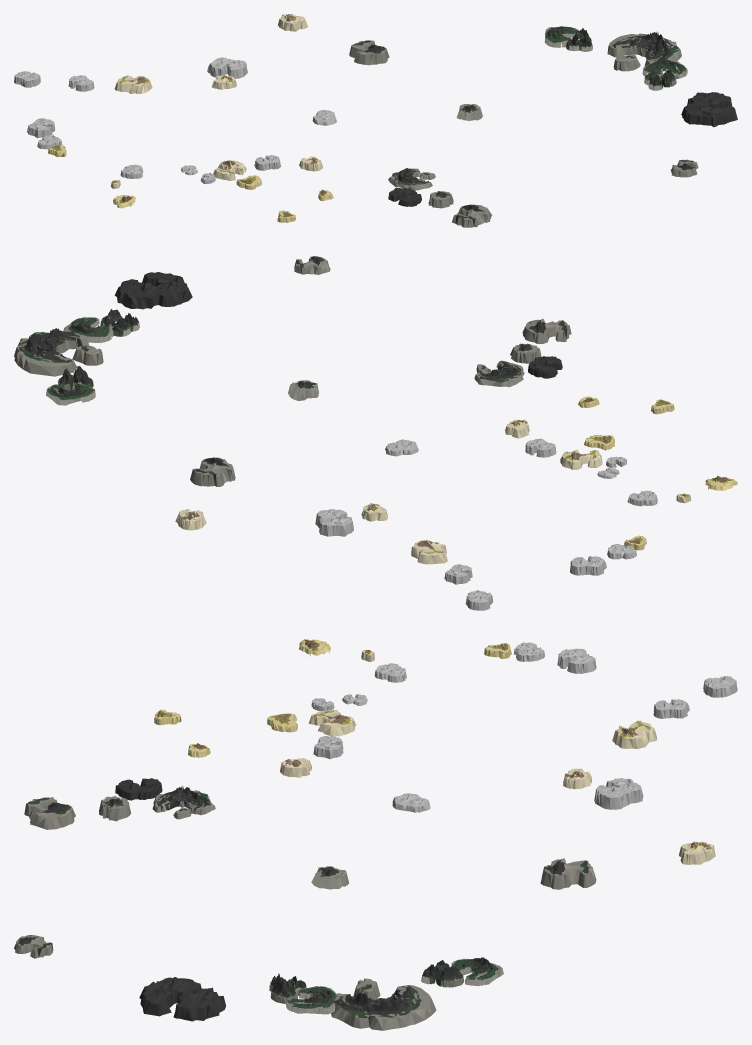
Rendered from samllisland 1.fbx.
The picture shows the model from 3 angles, top to bottom: view 1: azimuth 30°, elevation 25°; view 2: azimuth 150°, elevation 25°; view 3: azimuth 270°, elevation 25°; orthographic projection. The views are drawn at different scales.
Parts seen in each view (by area): view 1: out009, out010, island003.003, island003.004, island003.001, island003.002, out008, islet008.002, out001, islet016, islet008.003, islet013.002 (+3 smaller); view 2: out009, out010, island003.003, island003.001, island003.004, island003.002, out008, islet008.002, out001, islet016, islet008.003; view 3: out009, out010, island003.003, island003.004, island003.001, island003.002, out008, islet008.002, out001, islet016, islet008.003, islet013.002 (+3 smaller).
Boxes of the visible parts, <box> form: out009: <box>607,32,681,71</box>; out010: <box>681,92,737,127</box>; island003.003: <box>388,168,435,206</box>; island003.004: <box>428,191,492,227</box>; island003.001: <box>642,59,687,90</box>; island003.002: <box>544,26,592,51</box>; out008: <box>349,40,389,65</box>; islet008.002: <box>207,57,247,78</box>; out001: <box>114,75,152,93</box>; islet016: <box>213,160,246,180</box>; islet008.003: <box>27,118,55,138</box>; islet013.002: <box>278,14,307,31</box>; out009: <box>14,328,103,376</box>; out010: <box>114,272,192,309</box>; island003.003: <box>474,356,562,387</box>; island003.001: <box>63,309,139,342</box>; island003.004: <box>510,318,571,363</box>; island003.002: <box>46,365,95,405</box>; out008: <box>190,457,235,486</box>; islet008.002: <box>315,509,353,536</box>; out001: <box>411,540,447,564</box>; islet016: <box>560,449,602,469</box>; islet008.003: <box>570,556,606,575</box>; out009: <box>331,978,436,1030</box>; out010: <box>139,977,225,1021</box>; island003.003: <box>115,778,215,819</box>; island003.004: <box>24,795,130,829</box>; island003.001: <box>269,973,335,1014</box>; island003.002: <box>421,957,503,987</box>; out008: <box>540,858,596,889</box>; islet008.002: <box>594,778,643,809</box>; out001: <box>612,720,657,748</box>; islet016: <box>309,710,356,736</box>; islet008.003: <box>557,648,596,673</box>; islet013.002: <box>679,841,715,864</box>.
Bounding box in the file's own units: 8880 × 282 × 7095.
